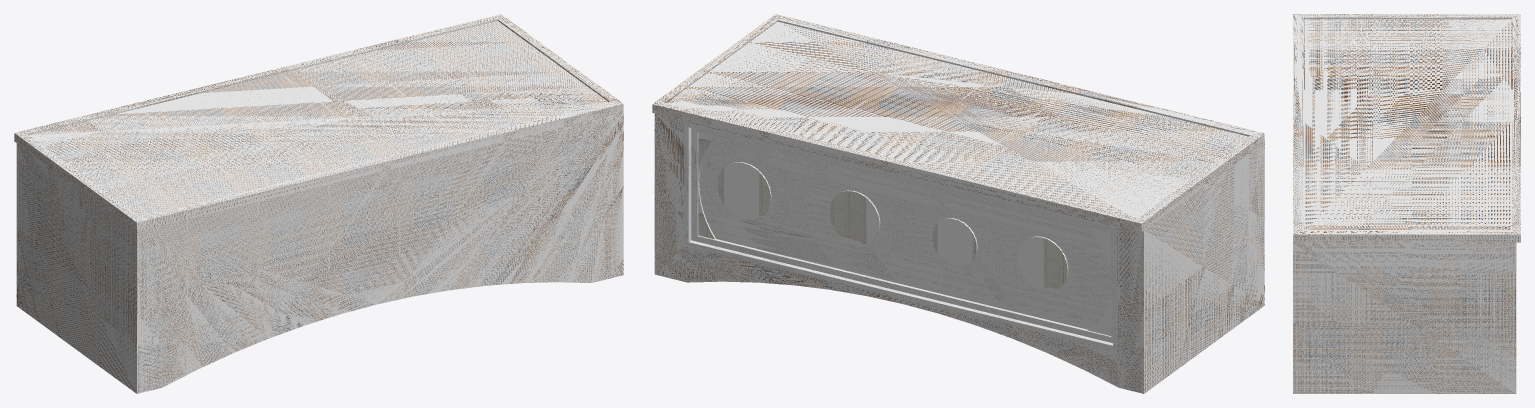
The picture shows the model from 3 angles, left to right: view 1: azimuth 30°, elevation 25°; view 2: azimuth 150°, elevation 25°; view 3: azimuth 270°, elevation 25°; orthographic projection. The views are drawn at different scales.
Parts seen in each view (by area): view 1: mesh1_mesh1-geometry; view 2: mesh1_mesh1-geometry; view 3: mesh1_mesh1-geometry.
Boxes of the visible parts, x1,y1,x2,y2 form: mesh1_mesh1-geometry: (14,14,623,393); mesh1_mesh1-geometry: (652,14,1264,393); mesh1_mesh1-geometry: (1293,14,1520,393).
Size of the model in its own units: 0.8759 by 0.2946 by 0.3822.
